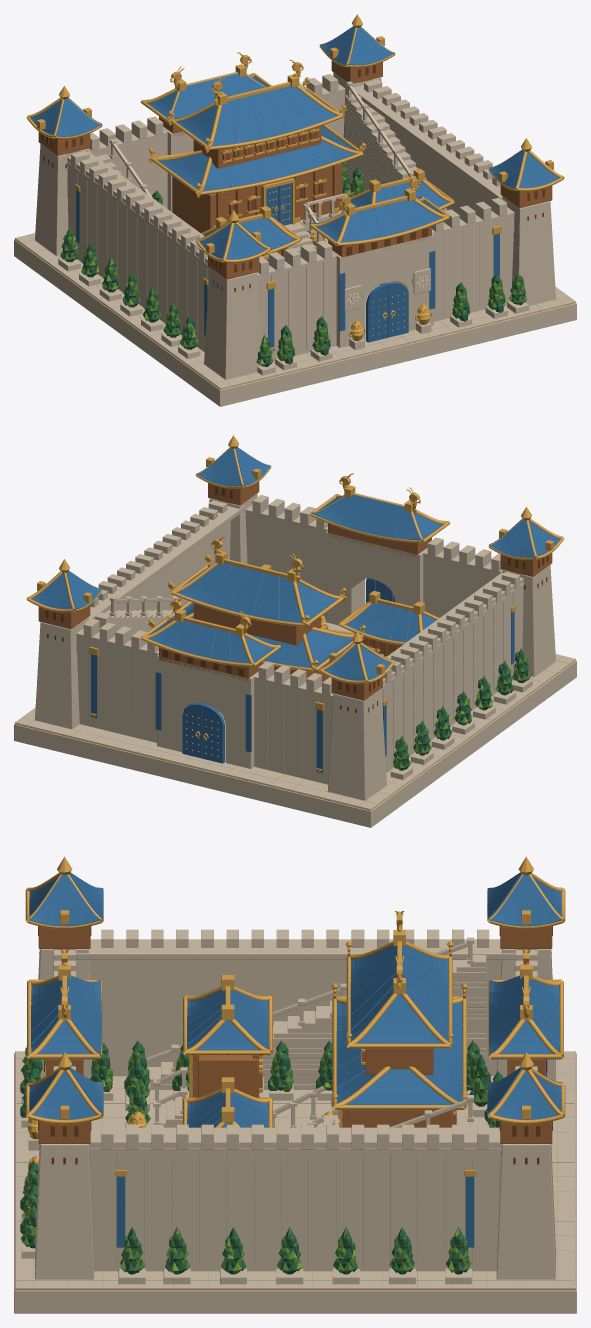
Rendered from city-4.glb.
The picture shows the model from 3 angles, top to bottom: view 1: azimuth 30°, elevation 25°; view 2: azimuth 150°, elevation 25°; view 3: azimuth 270°, elevation 25°; orthographic projection. The views are drawn at different scales.
Visible parts, largest first — view 1: SM_CT4_V4_Batch_4.003, SM_CT4_V4_Batch_0.003, SM_CT4_V4_Batch_2.003, SM_CT4_V4_Batch_12.003, SM_CT4_V4_Batch_66.003, SM_CT4_V4_Batch_49.003, SM_CT4_V4_Batch_30.003, SM_CT4_V4_Batch_60.003, SM_CT4_V4_Batch_24.003, SM_CT4_V4_Batch_100.003, SM_CT4_V4_Batch_6.003, SM_CT4_V4_Batch_35.003 (+45 smaller); view 2: SM_CT4_V4_Batch_4.003, SM_CT4_V4_Batch_0.003, SM_CT4_V4_Batch_2.003, SM_CT4_V4_Batch_39.003, SM_CT4_V4_Batch_30.003, SM_CT4_V4_Batch_6.003, SM_CT4_V4_Batch_66.003, SM_CT4_V4_Batch_18.003, SM_CT4_V4_Batch_35.003, SM_CT4_V4_Batch_12.003, SM_CT4_V4_Batch_44.003, SM_CT4_V4_Batch_81.003 (+38 smaller); view 3: SM_CT4_V4_Batch_4.003, SM_CT4_V4_Batch_2.003, SM_CT4_V4_Batch_0.003, SM_CT4_V4_Batch_66.003, SM_CT4_V4_Batch_18.003, SM_CT4_V4_Batch_24.003, SM_CT4_V4_Batch_100.003, SM_CT4_V4_Batch_60.003, SM_CT4_V4_Batch_109.003, SM_CT4_V4_Batch_35.003, SM_CT4_V4_Batch_44.003, SM_CT4_V4_Batch_101.003 (+38 smaller).
Part boxes in pixels (box(x1,y1,x2,y2)): SM_CT4_V4_Batch_4.003: box(66, 74, 514, 360); SM_CT4_V4_Batch_0.003: box(14, 239, 576, 406); SM_CT4_V4_Batch_2.003: box(15, 232, 575, 388); SM_CT4_V4_Batch_12.003: box(204, 268, 261, 379); SM_CT4_V4_Batch_66.003: box(176, 86, 337, 146); SM_CT4_V4_Batch_49.003: box(172, 126, 342, 232); SM_CT4_V4_Batch_30.003: box(332, 233, 433, 347); SM_CT4_V4_Batch_60.003: box(157, 125, 355, 191); SM_CT4_V4_Batch_24.003: box(502, 196, 555, 305); SM_CT4_V4_Batch_100.003: box(96, 94, 446, 210); SM_CT4_V4_Batch_6.003: box(35, 144, 88, 255); SM_CT4_V4_Batch_35.003: box(311, 196, 442, 246); SM_CT4_V4_Batch_4.003: box(76, 495, 524, 784); SM_CT4_V4_Batch_0.003: box(14, 660, 576, 827); SM_CT4_V4_Batch_2.003: box(15, 619, 575, 809); SM_CT4_V4_Batch_39.003: box(157, 654, 258, 768); SM_CT4_V4_Batch_30.003: box(326, 531, 427, 625); SM_CT4_V4_Batch_6.003: box(327, 689, 386, 800); SM_CT4_V4_Batch_66.003: box(177, 563, 337, 623); SM_CT4_V4_Batch_18.003: box(35, 617, 88, 729); SM_CT4_V4_Batch_35.003: box(311, 494, 443, 542); SM_CT4_V4_Batch_12.003: box(502, 565, 555, 676); SM_CT4_V4_Batch_44.003: box(148, 617, 279, 667); SM_CT4_V4_Batch_81.003: box(345, 602, 436, 642); SM_CT4_V4_Batch_4.003: box(53, 929, 537, 1271); SM_CT4_V4_Batch_2.003: box(15, 1051, 575, 1289); SM_CT4_V4_Batch_0.003: box(14, 1053, 576, 1313); SM_CT4_V4_Batch_66.003: box(350, 945, 448, 1043); SM_CT4_V4_Batch_18.003: box(496, 1144, 555, 1279); SM_CT4_V4_Batch_24.003: box(35, 1144, 94, 1279); SM_CT4_V4_Batch_100.003: box(147, 955, 486, 1127); SM_CT4_V4_Batch_60.003: box(336, 1001, 462, 1109); SM_CT4_V4_Batch_109.003: box(20, 1040, 503, 1272); SM_CT4_V4_Batch_35.003: box(29, 975, 101, 1059); SM_CT4_V4_Batch_44.003: box(489, 975, 561, 1059); SM_CT4_V4_Batch_101.003: box(21, 1073, 488, 1284).
Size of the model in its own units: 10 by 5.12 by 10.
12 materials, 5 textured.
